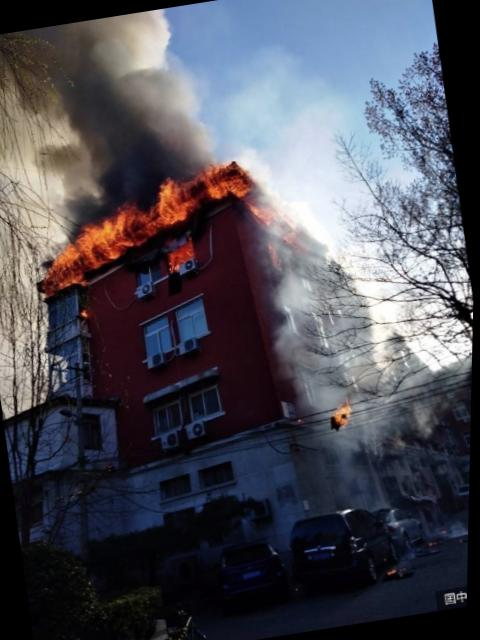fire: (22, 150, 309, 300)
